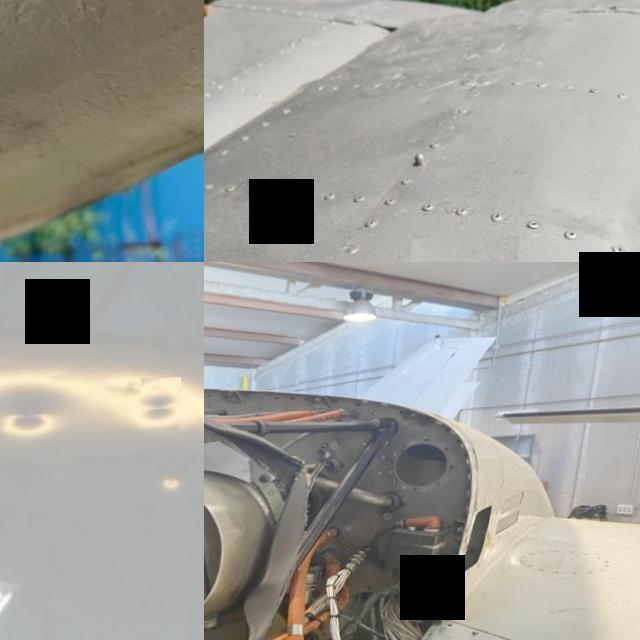Dent: (0, 381, 64, 447), (411, 238, 522, 262), (141, 381, 180, 433)
Missing_Fastener: (430, 634, 436, 640), (450, 627, 456, 630)
